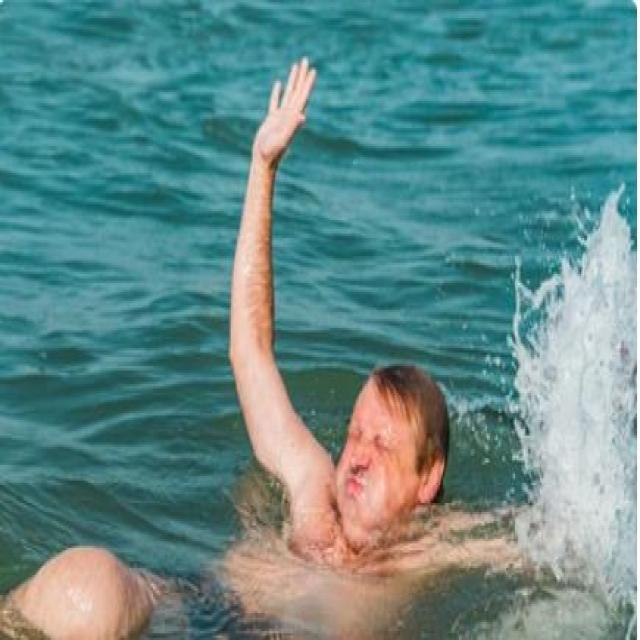Out of Water: (222, 56, 456, 568)
